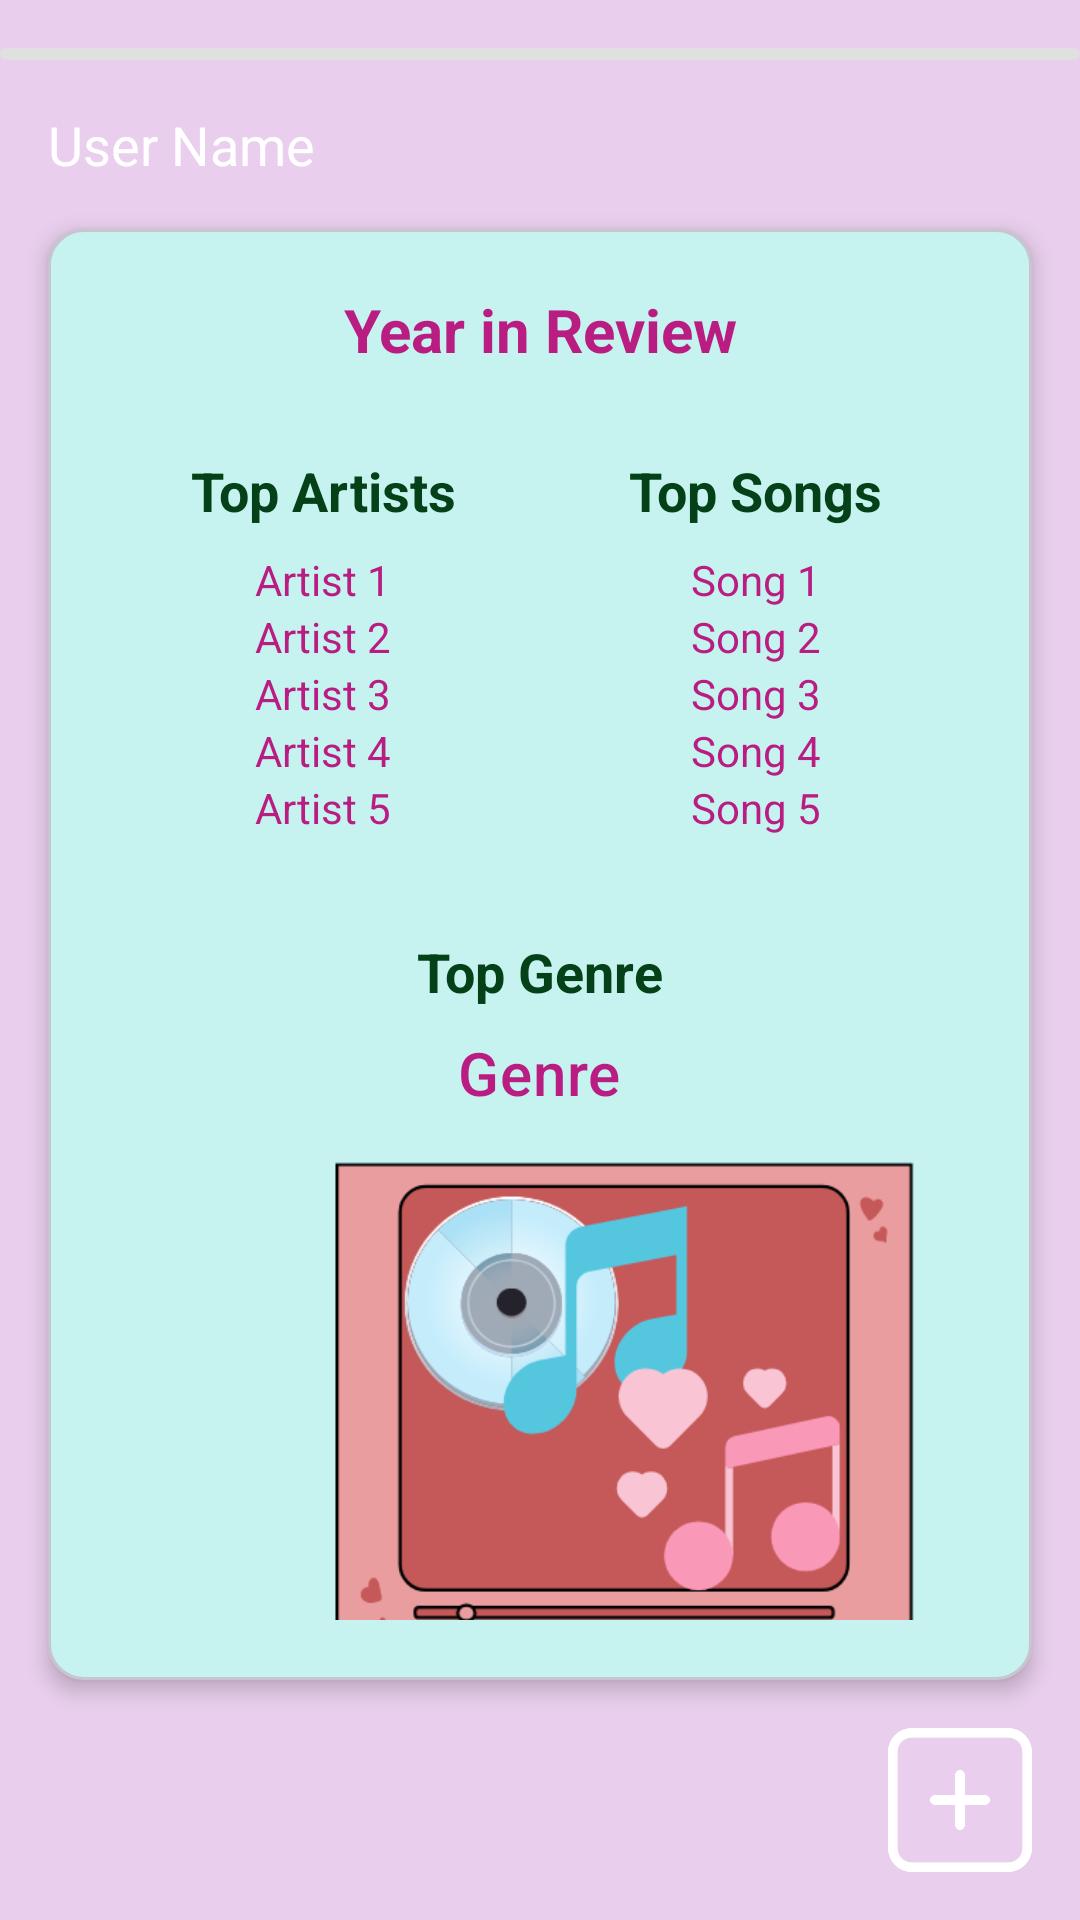

Point at icon controls on the screen. Image size 1080*1920, points as (x=x, y=y).
add: (x=960, y=1800)
